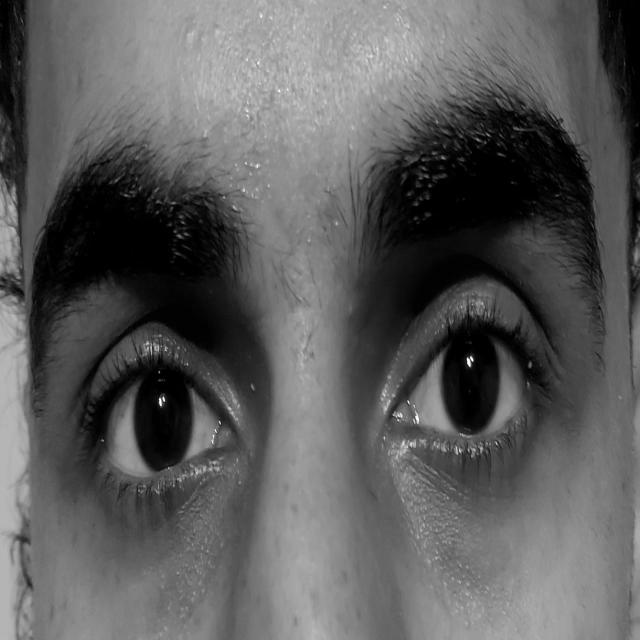real: (32, 131, 625, 575)
